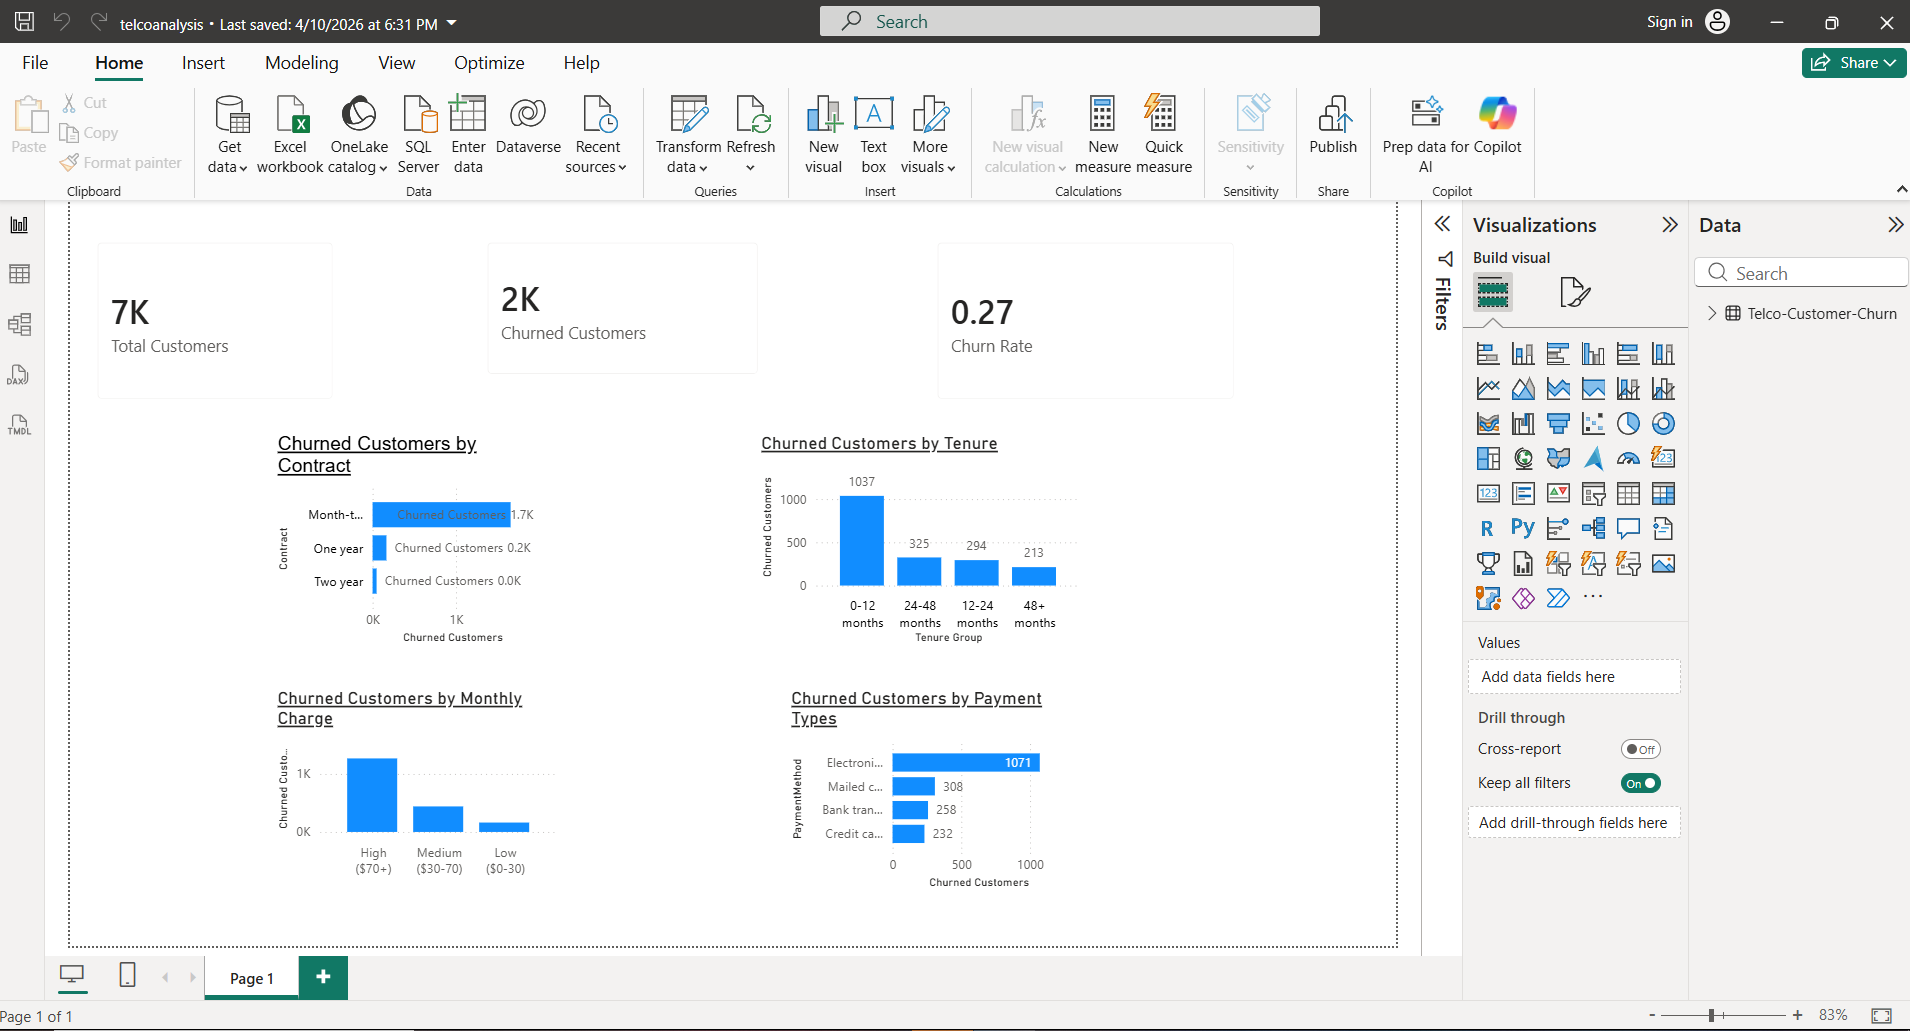

The page's visual inventory and layout, read from the dashboard file:
{"tool":"powerbi","page":{"name":"Page 1","canvas":[1280,720],"ordinal":0},"visuals":[{"type":"cardVisual","fields":{"Data":["Telco-Customer-Churn.Total Customers"]},"box":[9.7,24.1,261.8,185.8],"z":0},{"type":"cardVisual","fields":{"Data":["Telco-Customer-Churn.Churned Customers"]},"box":[386.1,24.1,295.6,161.7],"z":1000},{"type":"cardVisual","fields":{"Data":["Telco-Customer-Churn.Churn Rate"]},"box":[820.4,24.1,320.9,185.8],"z":2000},{"type":"clusteredBarChart","fields":{"Y":["Telco-Customer-Churn.Churned Customers"],"Category":["Telco-Customer-Churn.Contract"]},"box":[195.4,224.4,264.2,208.7],"z":3000},{"type":"clusteredColumnChart","title":"Churned Customers by Tenure ","fields":{"Category":["Telco-Customer-Churn.Tenure Group"],"Y":["Telco-Customer-Churn.Churned Customers"]},"box":[662.3,224.4,318.5,208.7],"z":3001},{"type":"clusteredColumnChart","title":"Churned Customers by Monthly Charge","fields":{"Category":["Telco-Customer-Churn.Charge Group"],"Y":["Telco-Customer-Churn.Churned Customers"]},"box":[195.4,470.5,281.1,190.6],"z":3002},{"type":"clusteredBarChart","title":"Churned Customers by Payment Types","fields":{"Category":["Telco-Customer-Churn.PaymentMethod"],"Y":["Telco-Customer-Churn.Churned Customers"]},"box":[691.3,470.5,288.3,199.1],"z":3003}]}

Visuals, with their boxes on the page's 1280x720 design canvas (x1, y1, x2, y2). These are canvas units, not pixel positions in the 1910x1031 screenshot, which may show the page scaled, cropped or inside an application window:
cardVisual - Telco-Customer-Churn.Total Customers: select_region(10, 24, 272, 210)
cardVisual - Telco-Customer-Churn.Churned Customers: select_region(386, 24, 682, 186)
cardVisual - Telco-Customer-Churn.Churn Rate: select_region(820, 24, 1141, 210)
clusteredBarChart - Telco-Customer-Churn.Churned Customers x Telco-Customer-Churn.Contract: select_region(195, 224, 460, 433)
"Churned Customers by Tenure " clusteredColumnChart: select_region(662, 224, 981, 433)
"Churned Customers by Monthly Charge" clusteredColumnChart: select_region(195, 470, 476, 661)
"Churned Customers by Payment Types" clusteredBarChart: select_region(691, 470, 980, 670)
